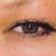eye: (24, 23, 37, 34)
